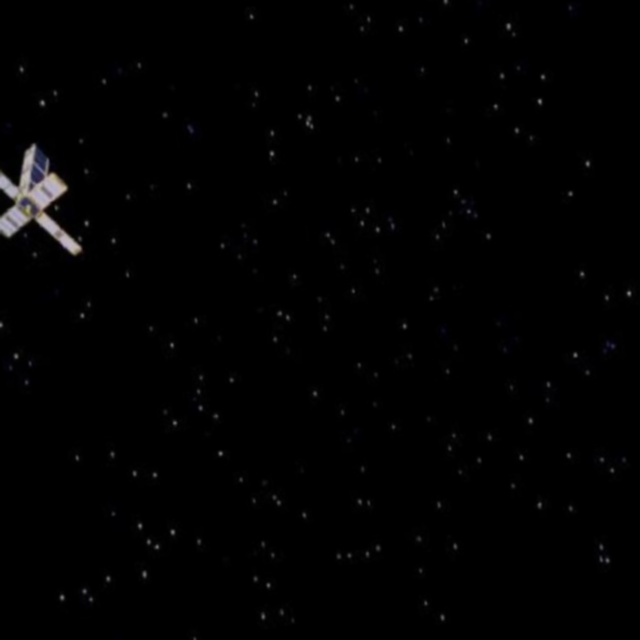satellite: (0, 115, 94, 275)
